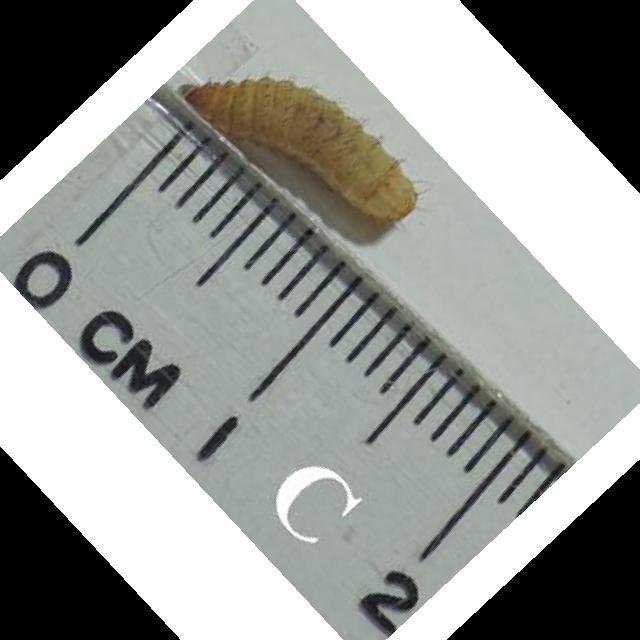Maggot: (179, 76, 425, 218)
